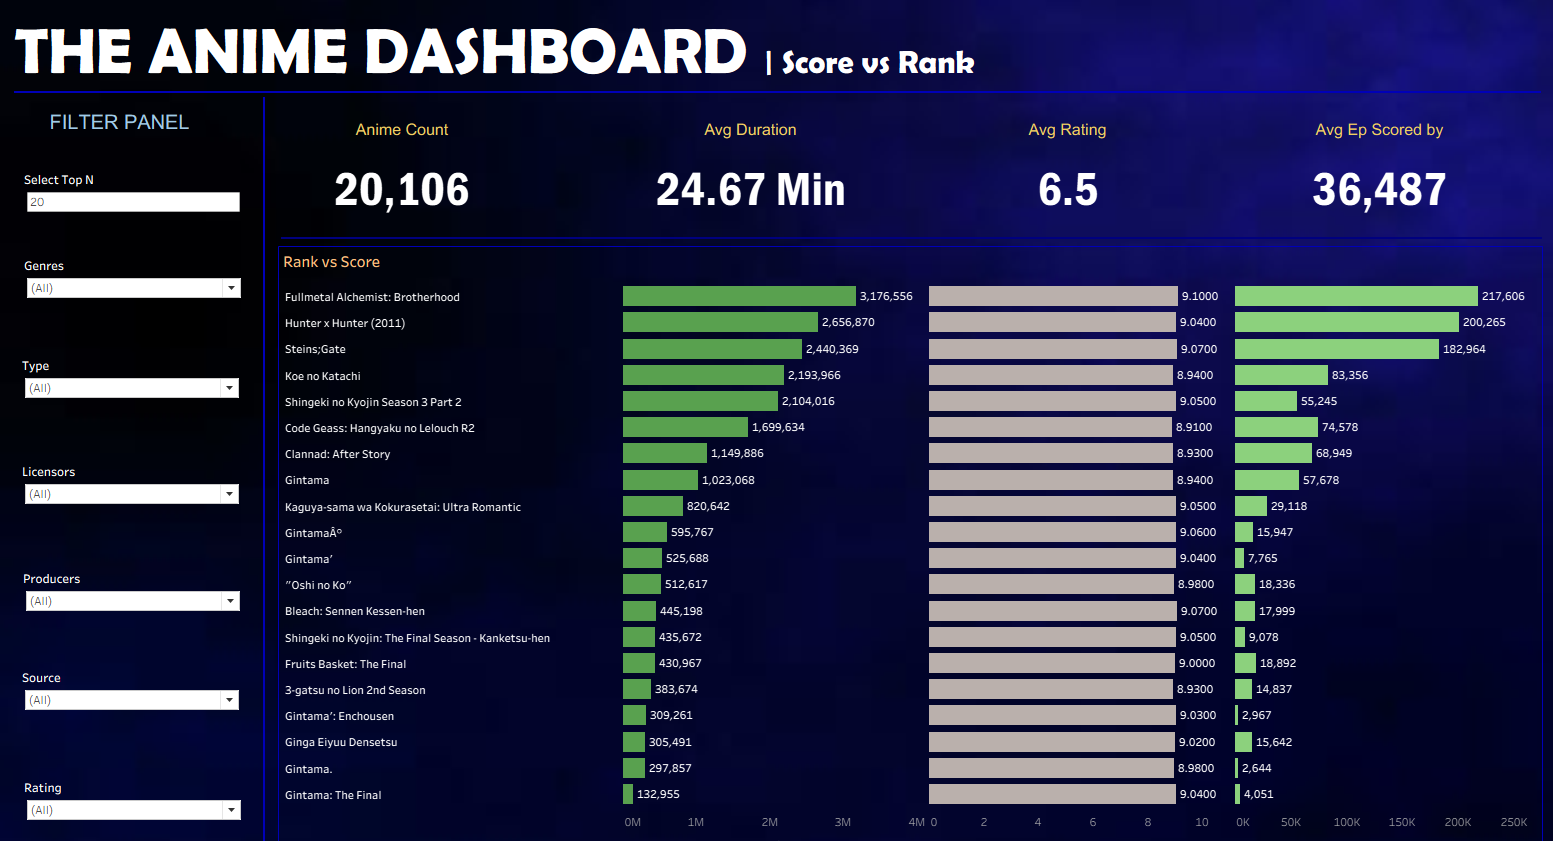

What the dashboard file says about the page in this screenshot:
{"tool":"tableau","page":{"name":"Anime Dashboard by Score & Rank","canvas":[1600,900],"ordinal":0},"visuals":[{"type":"image","param":"Image/abstract-white-smoke-in-slow-mot.jpg","box":[8,8,1584,884]},{"type":"text","box":[35,24,1268,79]},{"type":"blank","box":[37,104,1527,2]},{"type":"blank","box":[286,110,2,766]},{"type":"text","box":[70,120,156,30]},{"type":"worksheet","title":"Anime Count","mark":"Automatic","box":[310,130,230,110]},{"type":"worksheet","title":"Avg Duration","mark":"Automatic","box":[631,130,285,110]},{"type":"worksheet","title":"Avg Rating","mark":"Automatic","box":[954,130,273,110]},{"type":"worksheet","title":"Avg Ep Scored by","mark":"Automatic","box":[1247,130,311,110]},{"type":"parameter","param":"[Parameters].[Parameter 1]","box":[47,184,219,60]},{"type":"blank","box":[304,250,1261,2]},{"type":"worksheet","title":"Rank vs Score","mark":"Automatic","rows":["Name"],"cols":["Members","Score","Favorites"],"box":[301,259,1265,614]},{"type":"filter","title":"Anime Count","param":"[federated.1jnuf3b0e8a84v1d2peg80mjigwo].[none:Genres:nk]","box":[47,270,220,60]},{"type":"filter","title":"Anime Count","param":"[federated.1jnuf3b0e8a84v1d2peg80mjigwo].[none:Type:nk]","box":[45,370,220,60]},{"type":"filter","title":"Anime Count","param":"[federated.1jnuf3b0e8a84v1d2peg80mjigwo].[none:Licensors:nk]","box":[45,476,220,60]},{"type":"filter","title":"Anime Count","param":"[federated.1jnuf3b0e8a84v1d2peg80mjigwo].[none:Producers:nk]","box":[46,583,220,60]},{"type":"filter","title":"Anime Count","param":"[federated.1jnuf3b0e8a84v1d2peg80mjigwo].[none:Source:nk]","box":[45,682,220,60]},{"type":"filter","title":"Anime Count","param":"[federated.1jnuf3b0e8a84v1d2peg80mjigwo].[none:Rating:nk]","box":[47,792,220,60]}]}

Visuals, with their boxes on the page's 1600x900 design canvas (x1, y1, x2, y2). These are canvas units, not pixel positions in the 1553x841 screenshot, which may show the page scaled, cropped or inside an application window:
image: [8, 8, 1592, 892]
text: [35, 24, 1303, 103]
blank: [37, 104, 1564, 106]
blank: [286, 110, 288, 876]
text: [70, 120, 226, 150]
"Anime Count" worksheet: [310, 130, 540, 240]
"Avg Duration" worksheet: [631, 130, 916, 240]
"Avg Rating" worksheet: [954, 130, 1227, 240]
"Avg Ep Scored by" worksheet: [1247, 130, 1558, 240]
parameter: [47, 184, 266, 244]
blank: [304, 250, 1565, 252]
"Rank vs Score" worksheet: [301, 259, 1566, 873]
"Anime Count" filter: [47, 270, 267, 330]
"Anime Count" filter: [45, 370, 265, 430]
"Anime Count" filter: [45, 476, 265, 536]
"Anime Count" filter: [46, 583, 266, 643]
"Anime Count" filter: [45, 682, 265, 742]
"Anime Count" filter: [47, 792, 267, 852]
